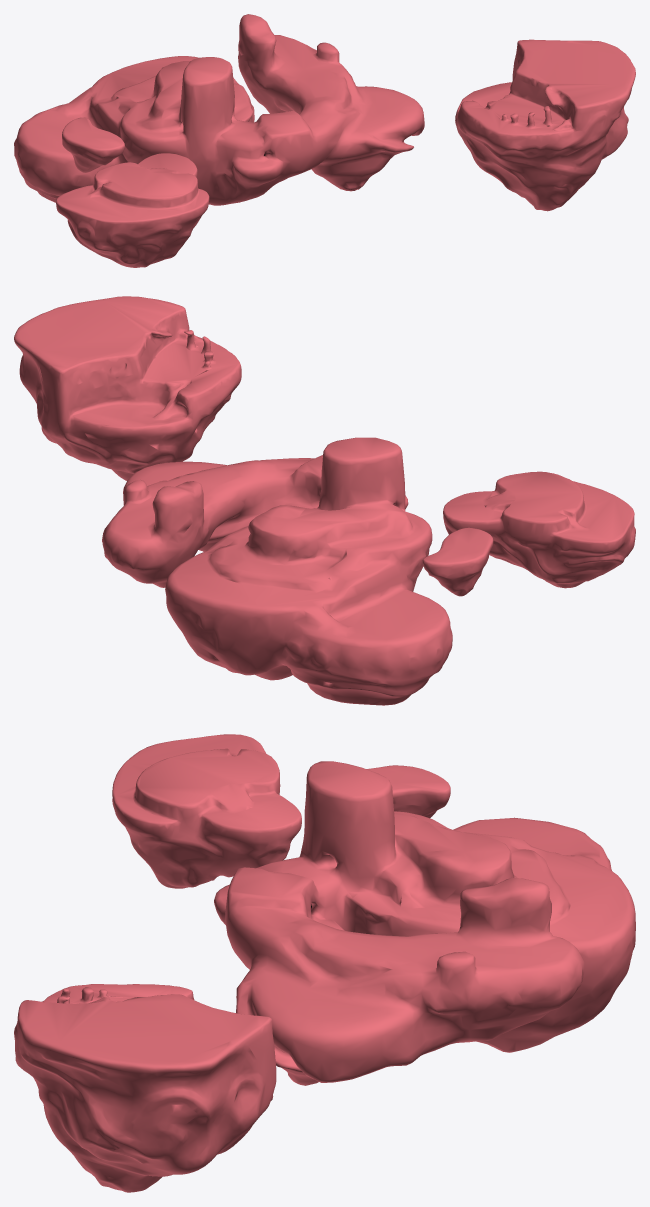
Rendered from TownIslandLOD1.fbx.
3 views of the same model, one above another, from view 1: azimuth 30°, elevation 25°; view 2: azimuth 150°, elevation 25°; view 3: azimuth 270°, elevation 25° (orthographic). The views are drawn at different scales.
Parts seen in each view (by area): view 1: Cube.010, Cube.013, Cube.012, Cube.011; view 2: Cube.010, Cube.013, Cube.012, Cube.011; view 3: Cube.010, Cube.013, Cube.012, Cube.011.
Part boxes in pixels (x1,y1,x2,y2): Cube.010: (14,14,424,205); Cube.013: (455,39,635,211); Cube.012: (56,153,209,267); Cube.011: (62,117,124,172); Cube.010: (102,437,452,705); Cube.013: (14,296,241,480); Cube.012: (443,471,635,588); Cube.011: (422,527,493,596); Cube.010: (214,761,635,1085); Cube.013: (14,984,276,1192); Cube.012: (112,734,301,888); Cube.011: (366,765,450,818).
Bounding box in the file's own units: 82761 × 24225 × 55701.
